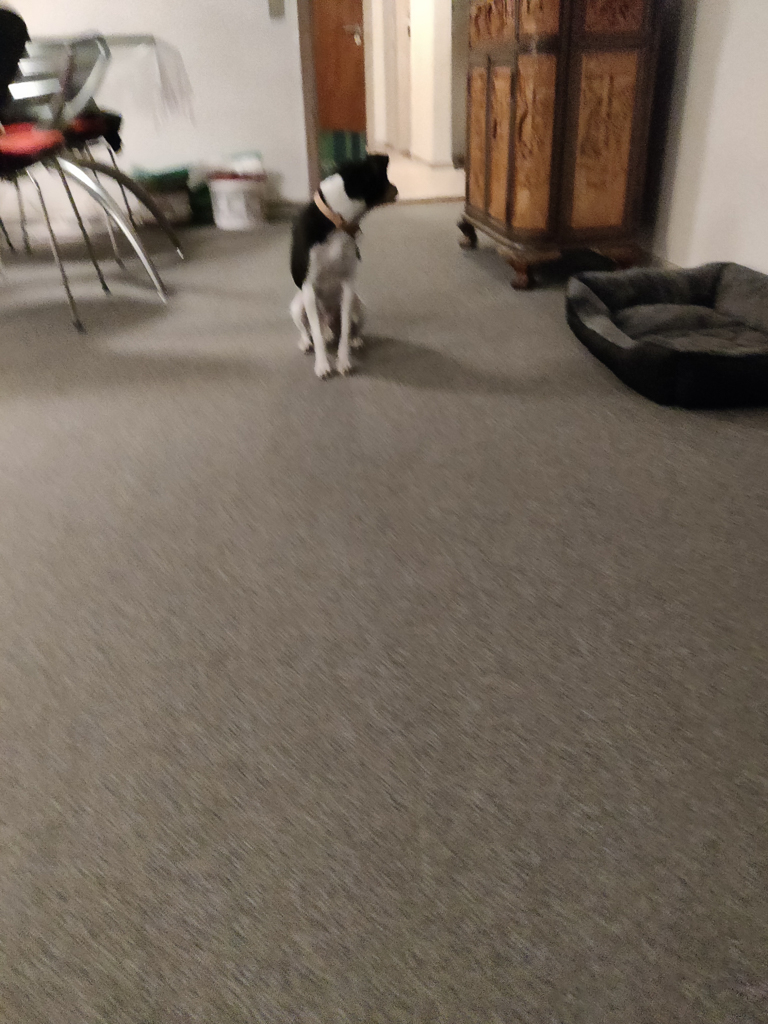Dog: (271, 136, 409, 389)
